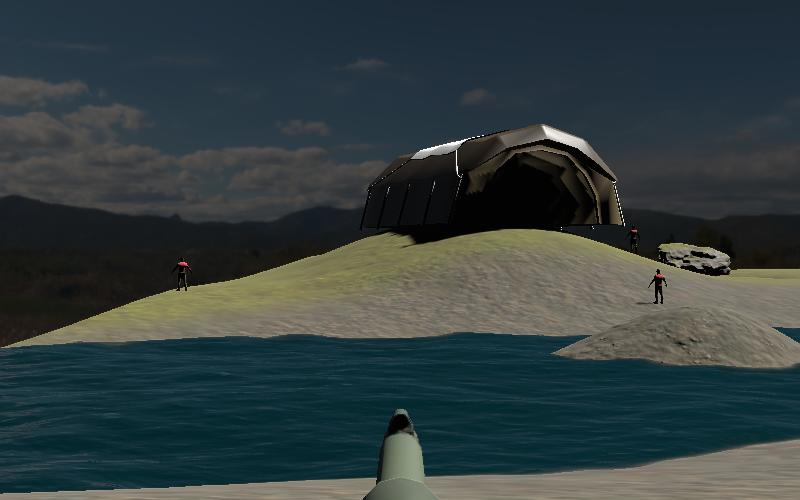Human: (169, 254, 194, 295), (646, 266, 670, 308), (626, 223, 642, 256)
